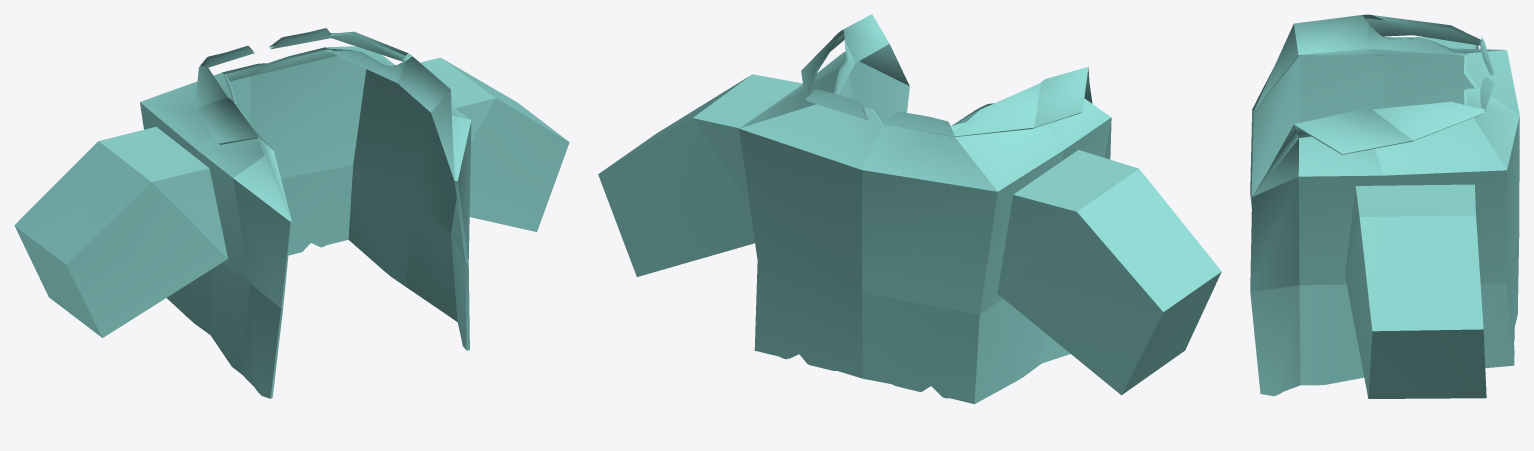
The model's file is Female Songkran Jacket.fbx.
The picture shows the model from 3 angles, left to right: view 1: azimuth 30°, elevation 25°; view 2: azimuth 150°, elevation 25°; view 3: azimuth 270°, elevation 25°; orthographic projection. The views are drawn at different scales.
Parts seen in each view (by area): view 1: Female Songkran.001, Female Songkran Right.001, Female Songkran Left.001; view 2: Female Songkran.001, Female Songkran Right.001, Female Songkran Left.001; view 3: Female Songkran.001, Female Songkran Left.001, Female Songkran Right.001.
Boxes of the visible parts, left/top/right/bottom form: Female Songkran.001: left=140, top=28, right=471, bottom=398; Female Songkran Right.001: left=14, top=126, right=227, bottom=337; Female Songkran Left.001: left=420, top=57, right=569, bottom=231; Female Songkran.001: left=739, top=14, right=1111, bottom=404; Female Songkran Right.001: left=997, top=150, right=1221, bottom=395; Female Songkran Left.001: left=598, top=74, right=802, bottom=276; Female Songkran.001: left=1250, top=14, right=1519, bottom=396; Female Songkran Left.001: left=1345, top=184, right=1486, bottom=398; Female Songkran Right.001: left=1386, top=36, right=1478, bottom=49.
Bounding box in the file's own units: 52.87 × 31.43 × 22.9.
